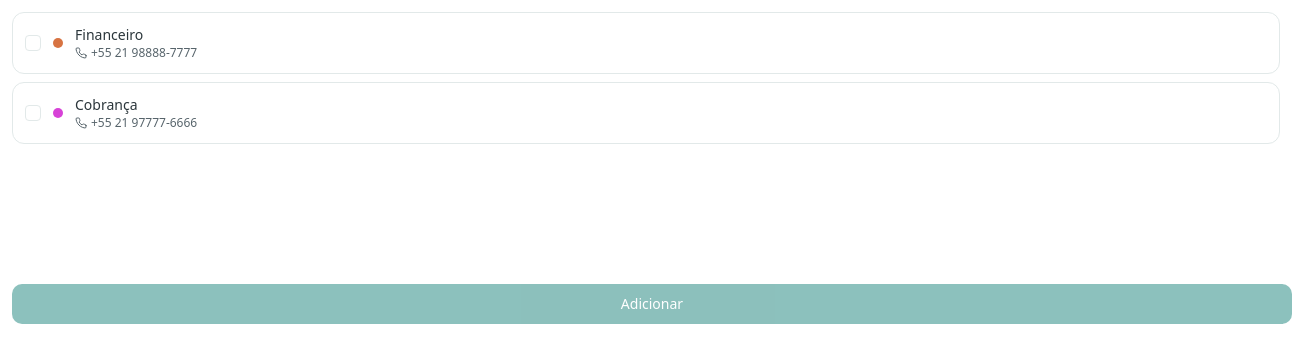
Test: OwnLinesSelectList › alterna a seleção no segundo clique
Click the button "Financeiro +55 21 98888-7777" at (109, 34), box [12,12,1280,74]
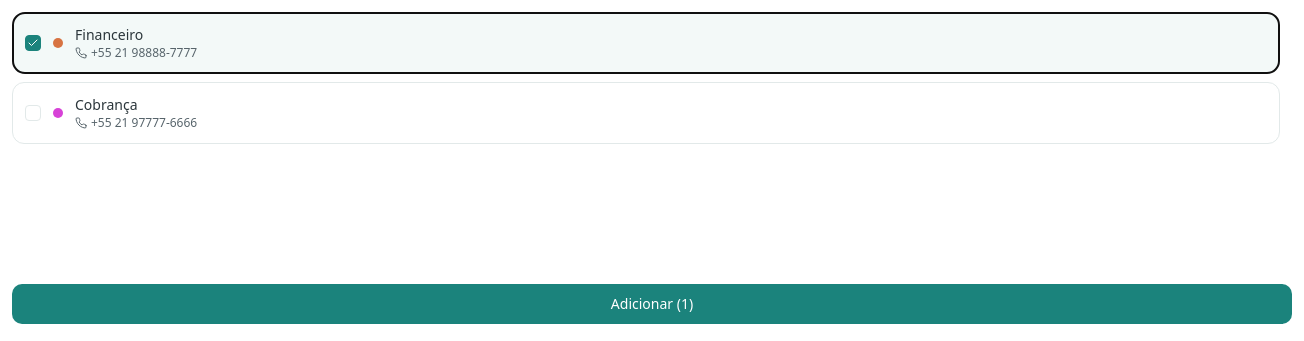
Expected: the button "Financeiro +55 21 98888-7777" is pressed
Click the button "Financeiro +55 21 98888-7777" at (109, 34), box [12,12,1280,74]
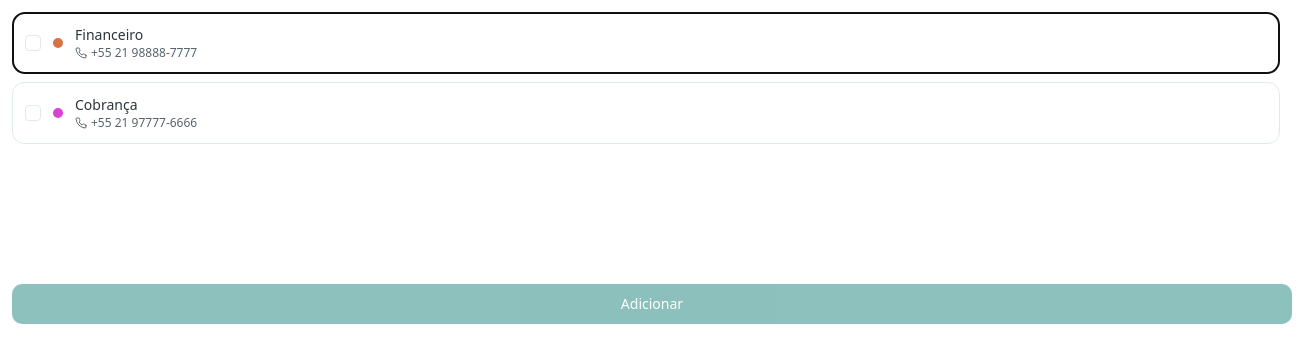
Expected: the button "Adicionar" is disabled, [12,284,1292,324]
